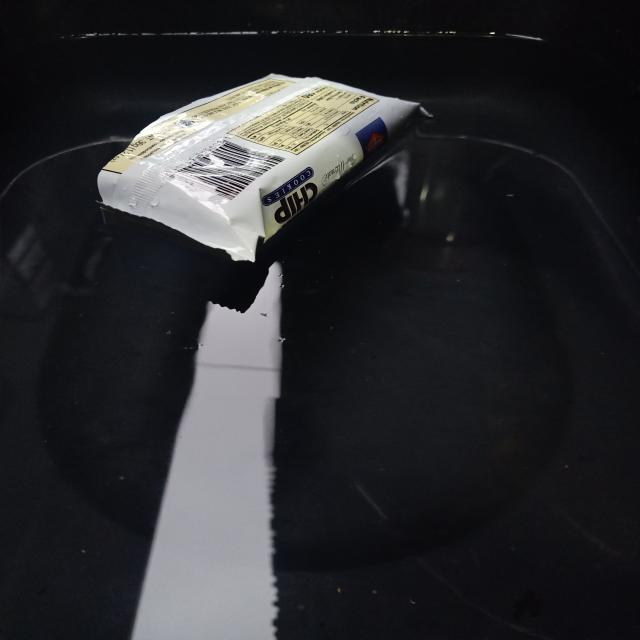Plastic Wrapper: (77, 77, 458, 268)
